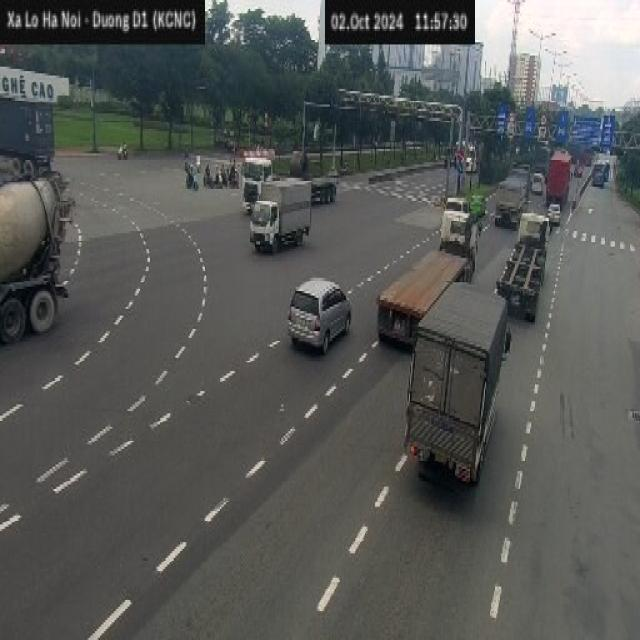car: (286, 276, 352, 354)
container-truck: (498, 209, 552, 316), (1, 94, 59, 180)
truck: (402, 280, 512, 487), (249, 176, 311, 253)
